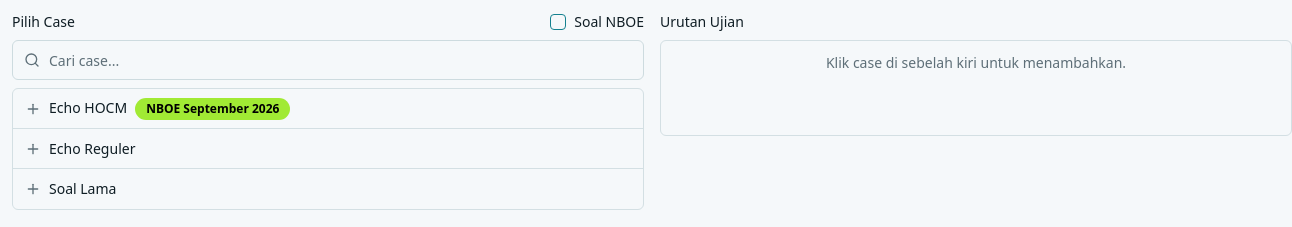
it: NBOE deployment picker filter › combines the filter with search and adds the marked case normally
The width and height of the screenshot is (1292, 227).
Later steps or results of the test are not shown.
Click the checkbox named "Soal NBOE".
click(558, 22)  # box [550,14,566,30]
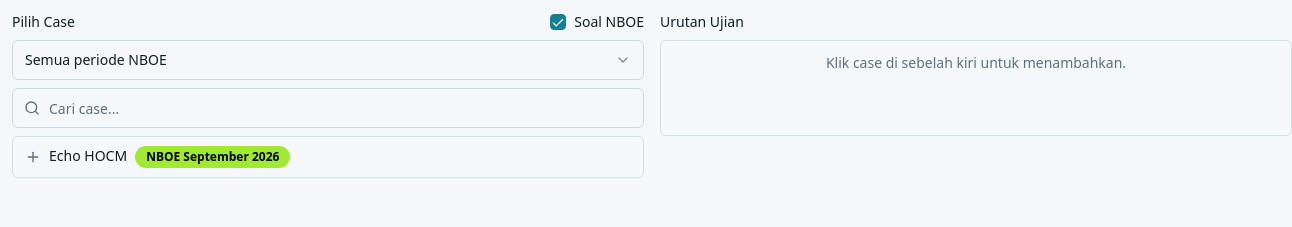
Type "Reguler" into the field with placeholder "Cari case...".
click(328, 108); type("Reguler")  # box [12,88,644,128]
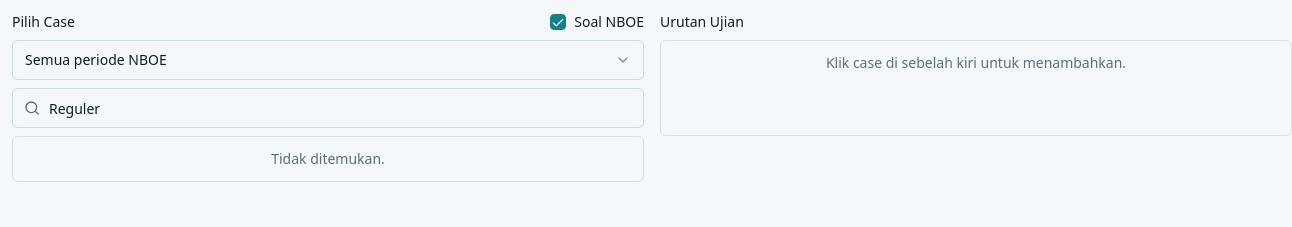
Now the button "Echo HOCM" is gone
